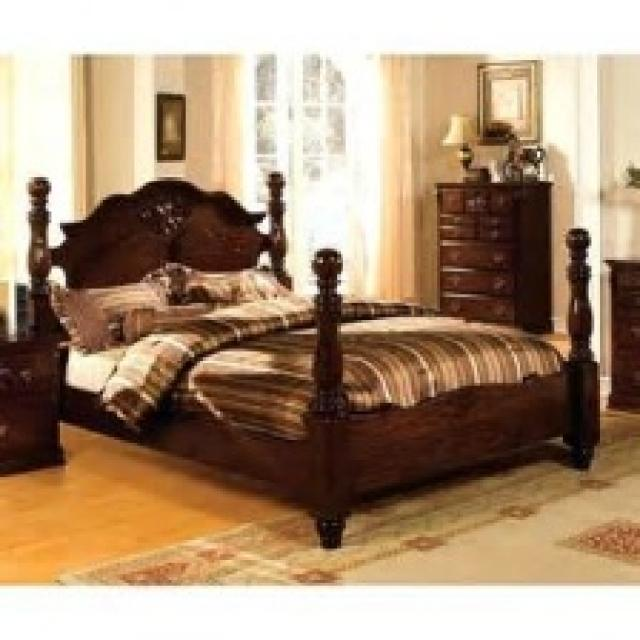Bed: (23, 168, 600, 548)
